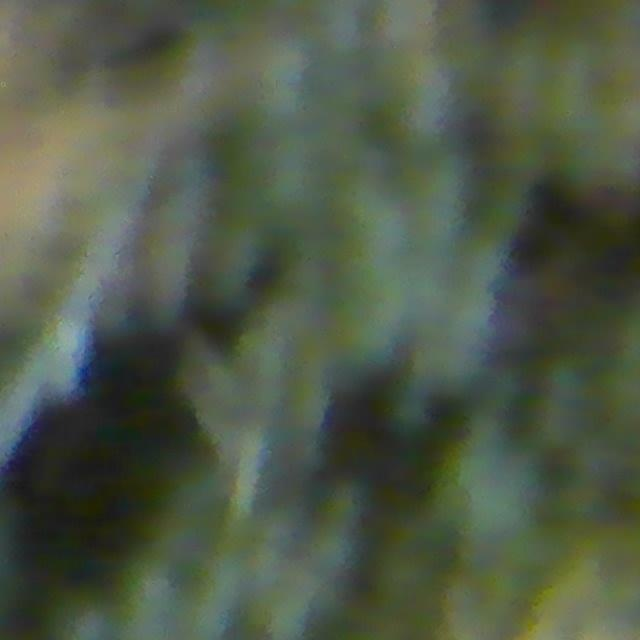SeaGrape: (430, 434, 542, 549)
